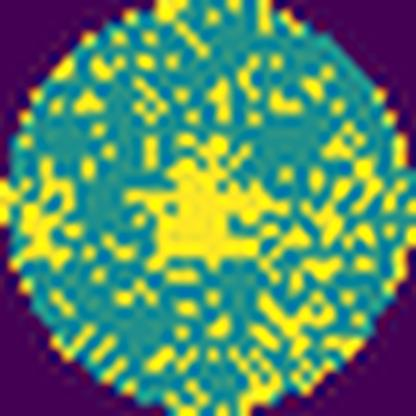Center: (154, 133, 292, 261)
